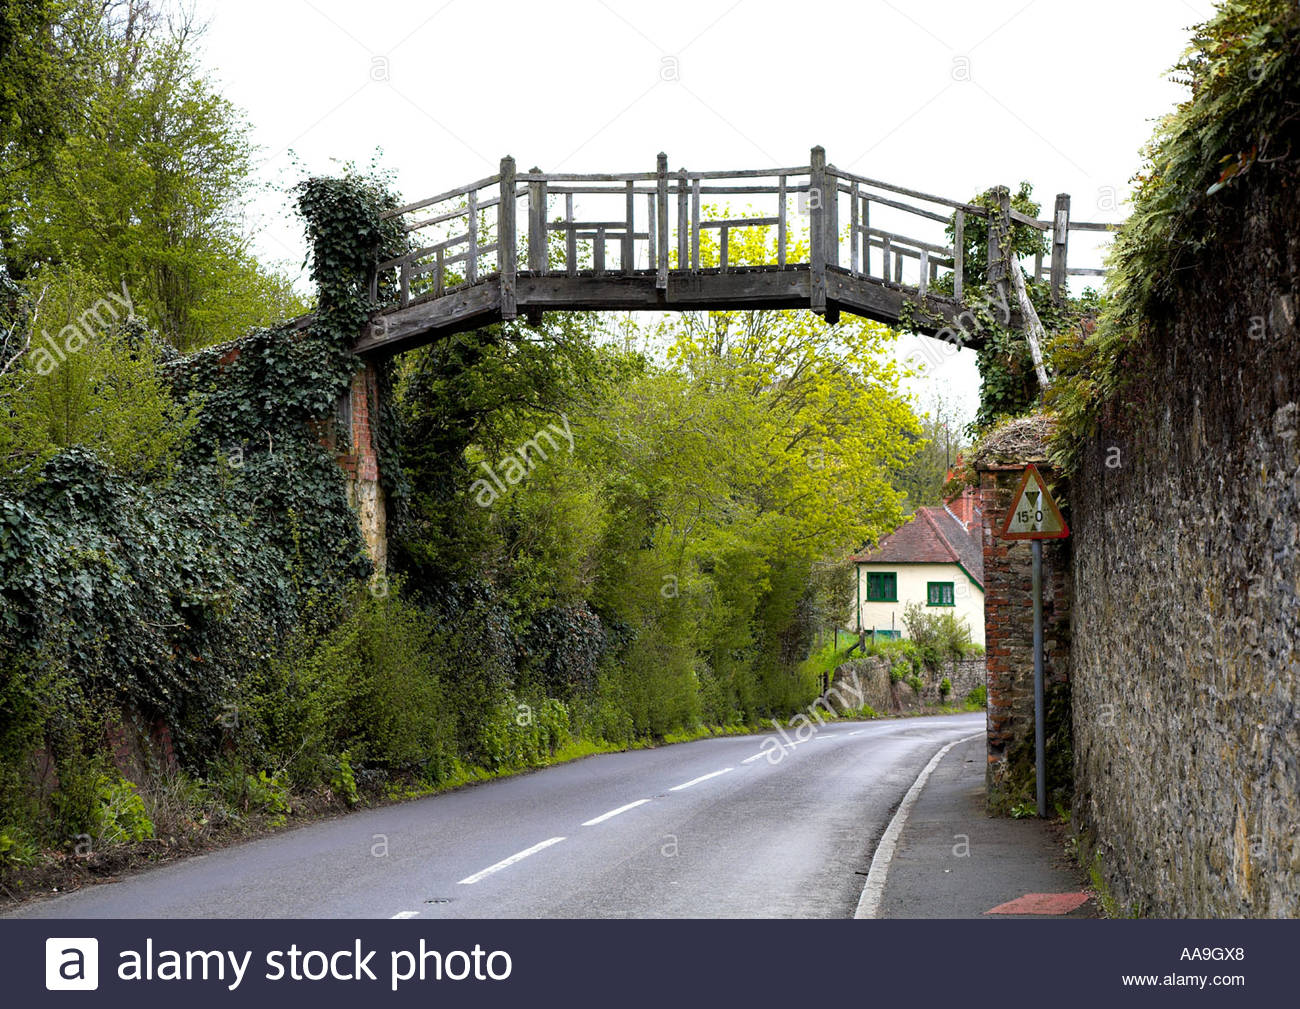bridge: (307, 142, 1054, 364)
